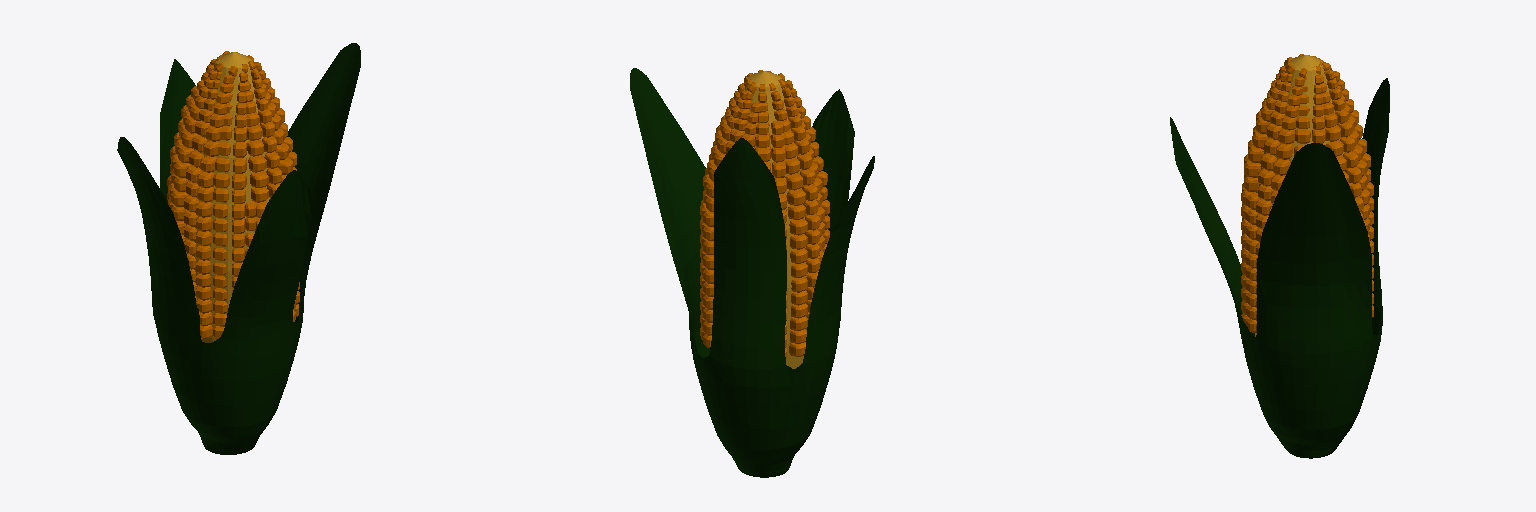
File: EarOfCorn_220.obj
3 views of the same model, side by side, from view 1: azimuth 30°, elevation 25°; view 2: azimuth 150°, elevation 25°; view 3: azimuth 270°, elevation 25° (orthographic).
Visible parts, largest first — view 1: Tube001, Sphere001; view 2: Tube001, Sphere001; view 3: Tube001, Sphere001.
Part boxes in pixels (x1,y1,x2,y2): Tube001: (117,43,360,454); Sphere001: (167,51,299,342); Tube001: (630,68,874,477); Sphere001: (700,70,829,368); Tube001: (1170,78,1389,458); Sphere001: (1241,54,1373,336).
Size of the model in its own units: 23.35 by 37.08 by 18.73.